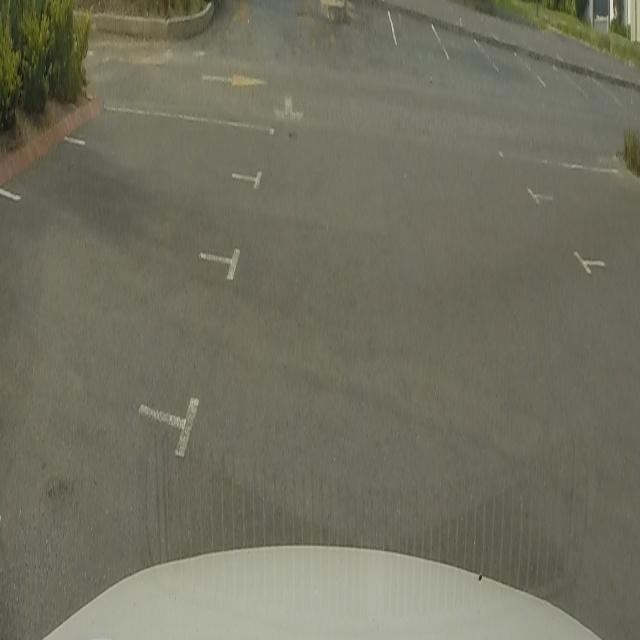pothole: (296, 8, 314, 29)
